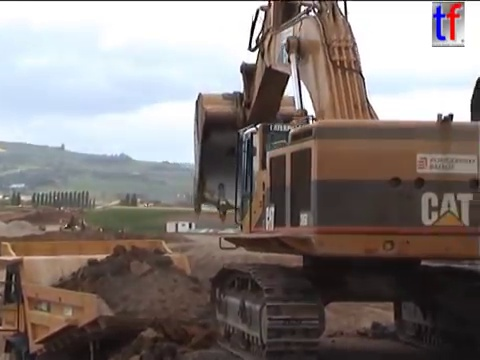excavator: (189, 1, 480, 360), (56, 212, 90, 235)
truck: (1, 235, 240, 360)
